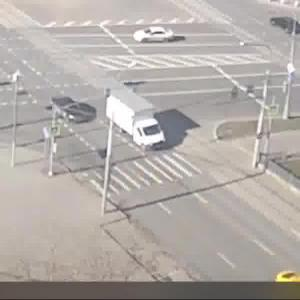car: (100, 85, 175, 149), (132, 21, 184, 49), (50, 92, 91, 125), (272, 268, 300, 285)
